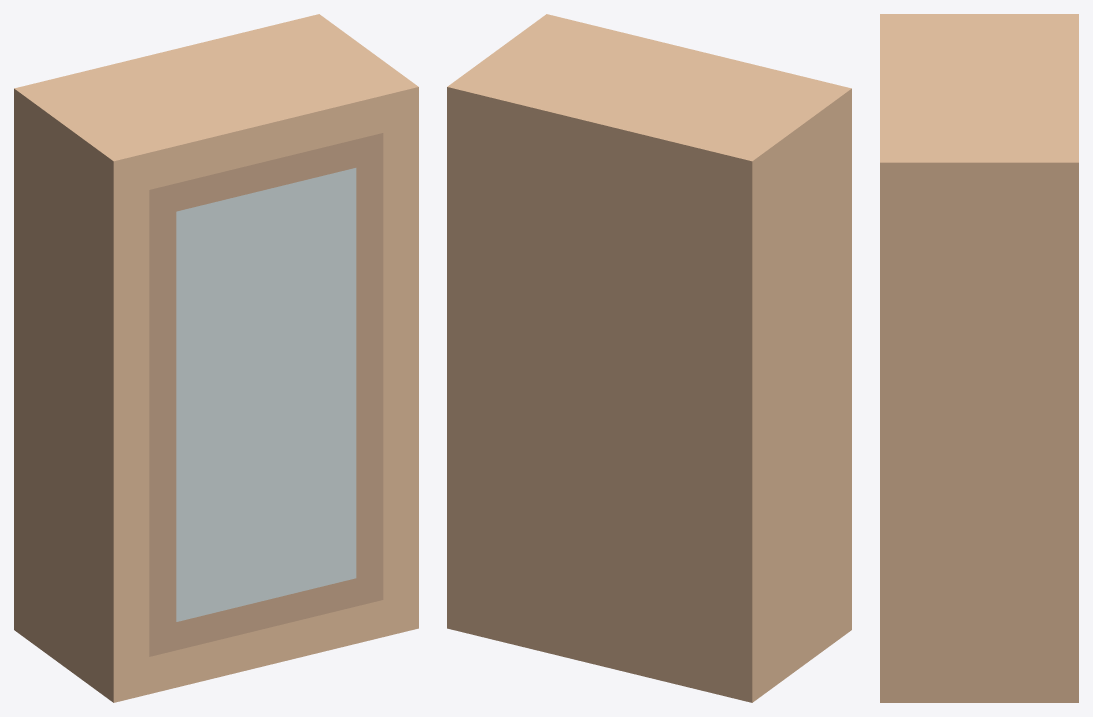
File: bathroomCabinet.glb
3 views of the same model, side by side, from view 1: azimuth 30°, elevation 25°; view 2: azimuth 150°, elevation 25°; view 3: azimuth 270°, elevation 25° (orthographic).
Parts seen in each view (by area): view 1: bathroomCabinet(Clone), door; view 2: bathroomCabinet(Clone); view 3: bathroomCabinet(Clone).
Boxes of the visible parts, x1,y1,x2,y2 form: bathroomCabinet(Clone): (14,14,418,702); door: (149,133,383,656); bathroomCabinet(Clone): (447,14,851,702); bathroomCabinet(Clone): (880,14,1078,702).
Bounding box in the file's own units: 0.4669 × 0.7917 × 0.2639.
Materials: 3 (3 with a texture image).
